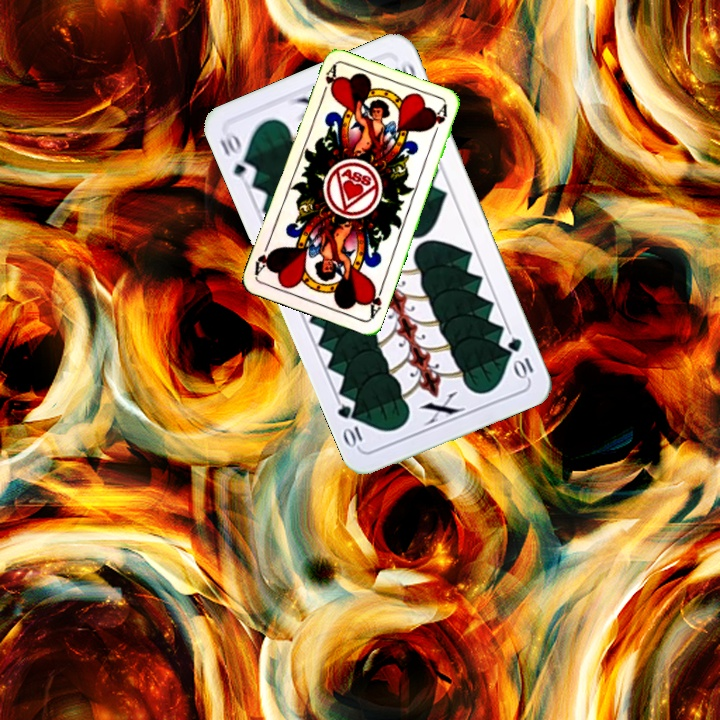G10: (216, 127, 259, 186), (503, 333, 536, 382)
HA: (364, 281, 386, 321), (317, 62, 339, 102)
